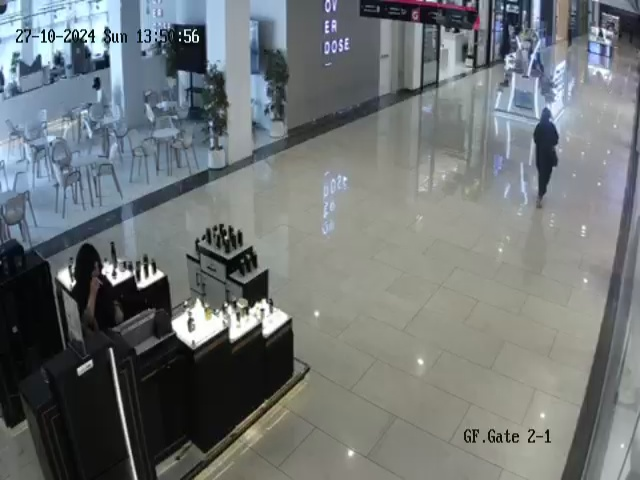employee: (63, 241, 129, 343)
female: (532, 107, 559, 208)
male: (82, 70, 125, 126)
